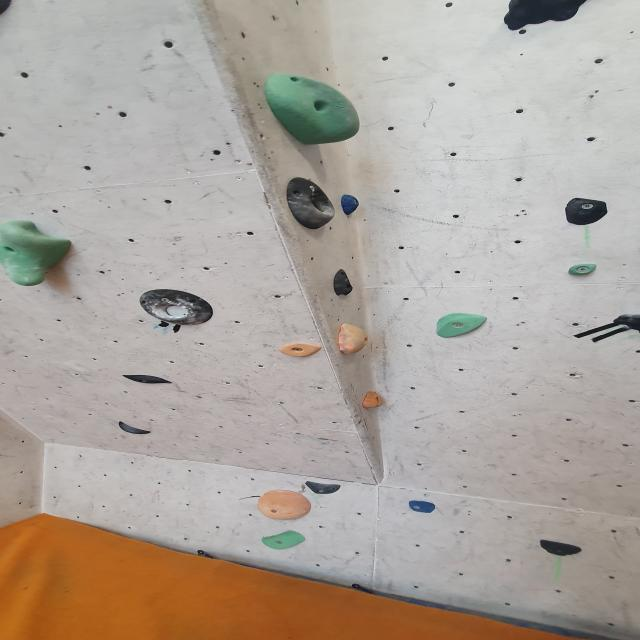Crimp: (435, 310, 492, 339), (532, 536, 588, 557), (277, 343, 325, 359), (406, 499, 438, 514), (566, 264, 598, 279), (360, 391, 385, 409)
Jug: (0, 218, 77, 288), (498, 0, 596, 32)
Pinch: (335, 322, 371, 356), (260, 529, 308, 551)
Pocket: (284, 178, 339, 232), (138, 291, 220, 325)
Sloper: (259, 74, 365, 149), (254, 490, 312, 523)
